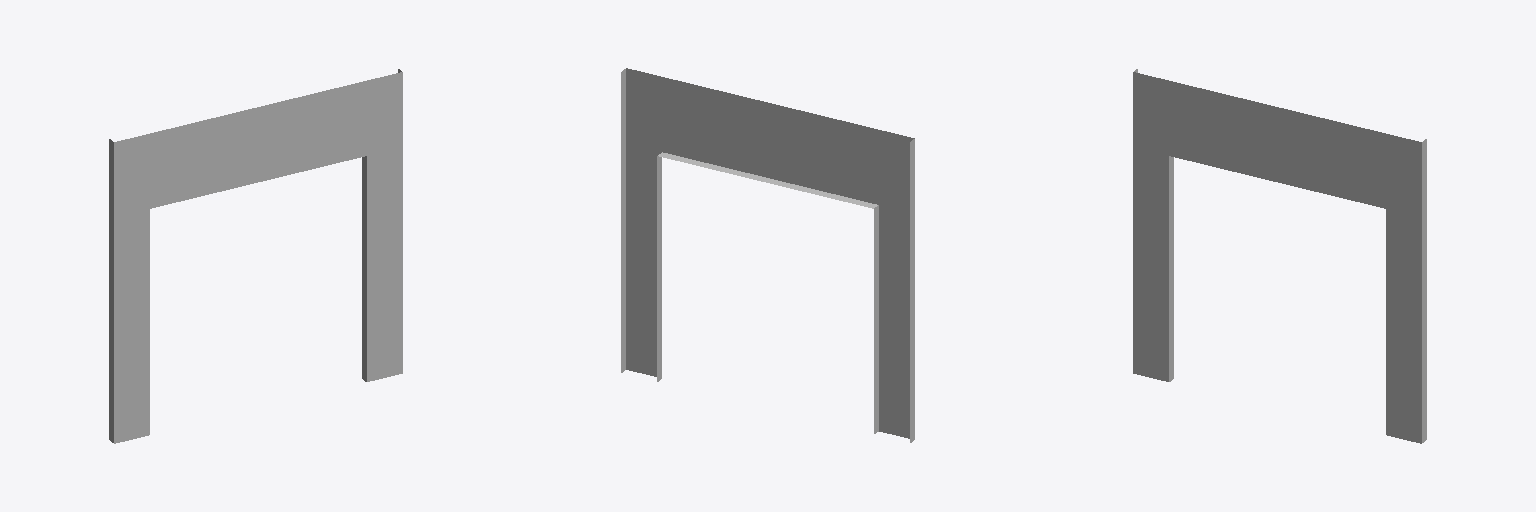
The model's file is door-frame_4x4_E.obj.
3 views of the same model, side by side, from view 1: azimuth 30°, elevation 25°; view 2: azimuth 150°, elevation 25°; view 3: azimuth 330°, elevation 25° (orthographic).
Visible parts, largest first — view 1: door-frame_4x4_E_Cube.038; view 2: door-frame_4x4_E_Cube.038; view 3: door-frame_4x4_E_Cube.038.
Boxes of the visible parts, x1,y1,x2,y2 form: door-frame_4x4_E_Cube.038: [109, 69, 402, 443]; door-frame_4x4_E_Cube.038: [621, 68, 914, 442]; door-frame_4x4_E_Cube.038: [1133, 69, 1426, 443].
Bounding box in the file's own units: 4 × 4 × 0.125.